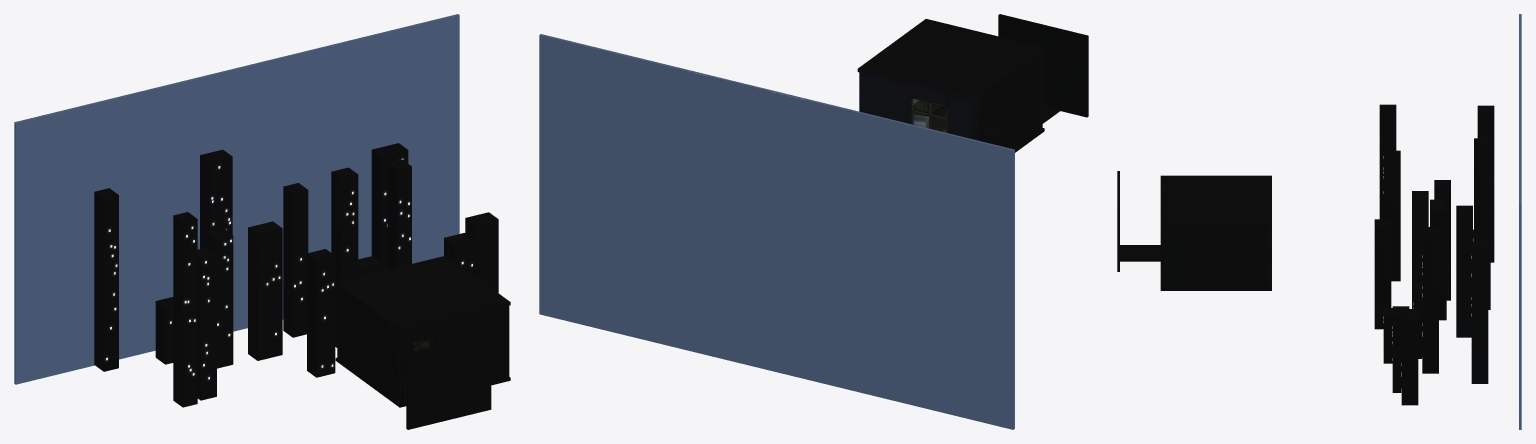
The model's file is room.glb.
The picture shows the model from 3 angles, left to right: view 1: azimuth 30°, elevation 25°; view 2: azimuth 150°, elevation 25°; view 3: azimuth 270°, elevation 25°; orthographic projection. The views are drawn at different scales.
Parts seen in each view (by area): view 1: shell; view 2: shell; view 3: shell.
Boxes of the visible parts, x1,y1,x2,y2 form: shell: [14, 14, 510, 429]; shell: [539, 14, 1088, 429]; shell: [1117, 14, 1521, 429].
Bounding box in the file's own units: 16 × 9 × 14.5.
Materials: 3 (3 with a texture image).
